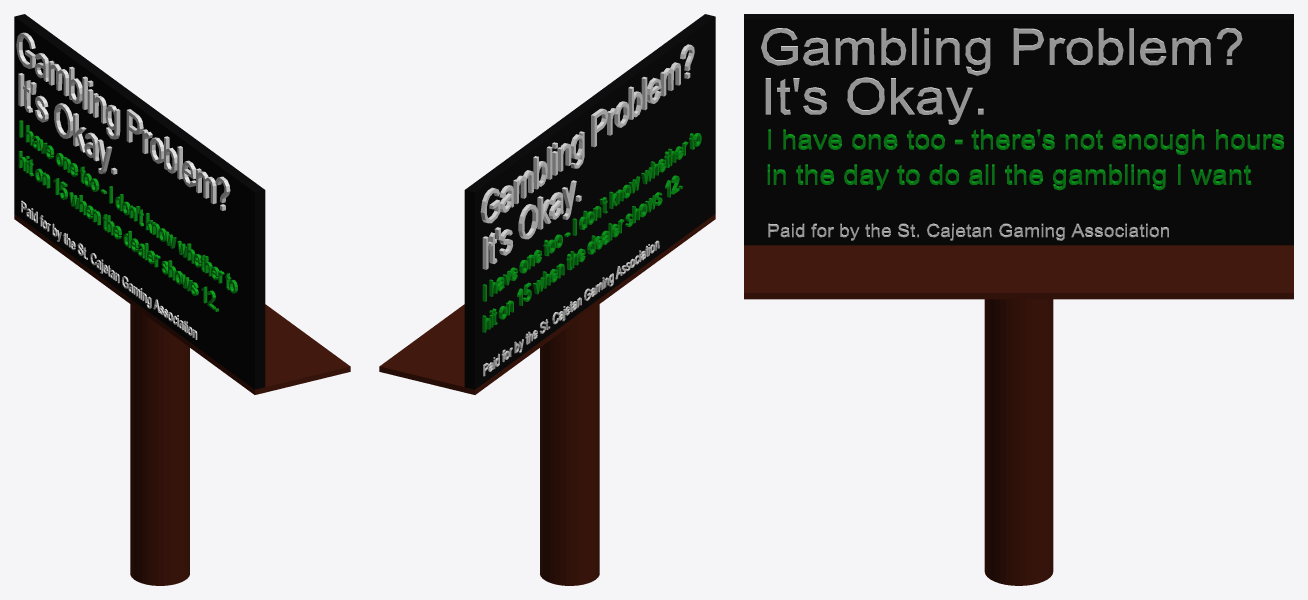
File: GamblingAddictionBillboard.glb
3 renders of one model, left to right at view 1: azimuth 30°, elevation 25°; view 2: azimuth 150°, elevation 25°; view 3: azimuth 270°, elevation 25°, orthographic. The views are drawn at different scales.
Visible parts, largest first — view 1: BillboardBack, Support, Text.004, Stand; view 2: BillboardBack, Support, Text.004, Stand; view 3: BillboardBack, Stand, Text.004, Support.
Part boxes in pixels (x1,y1,x2,y2): BillboardBack: [14, 14, 265, 389]; Support: [130, 304, 189, 585]; Text.004: [16, 32, 237, 339]; Stand: [14, 214, 350, 394]; BillboardBack: [464, 14, 715, 389]; Support: [540, 304, 599, 585]; Text.004: [480, 44, 701, 376]; Stand: [379, 214, 715, 394]; BillboardBack: [744, 14, 1293, 245]; Stand: [744, 245, 1293, 299]; Text.004: [761, 28, 1283, 240]; Support: [984, 299, 1053, 585].
Size of the model in its own units: 2.91 by 13.29 by 12.19.
